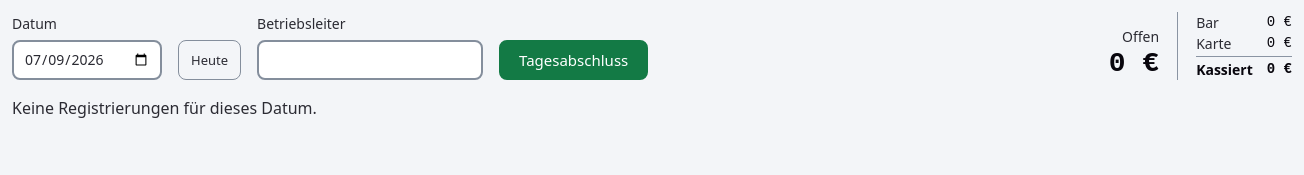
Test: List › Betriebsleiter › writes a pending name before the export runs
The image size is (1304, 175).
Type "Max Muster" into the field labelled "Betriebsleiter" at (370, 60), box [257, 40, 483, 80]
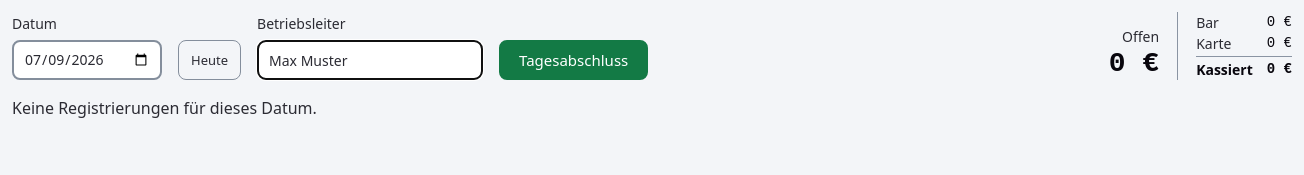
Click the button "Tagesabschluss" at (574, 60), box [499, 40, 648, 80]
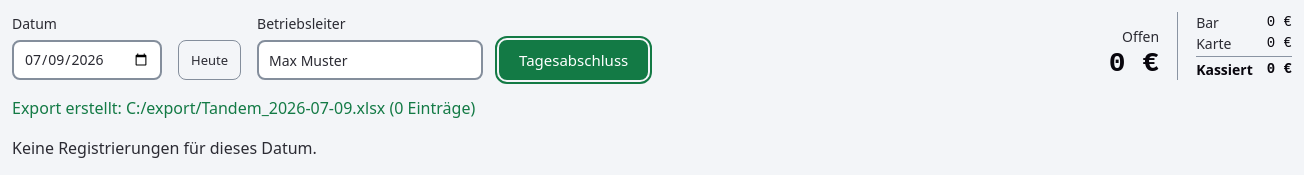
Expected: the text "Export erstellt" is shown, [12, 97, 475, 119]
